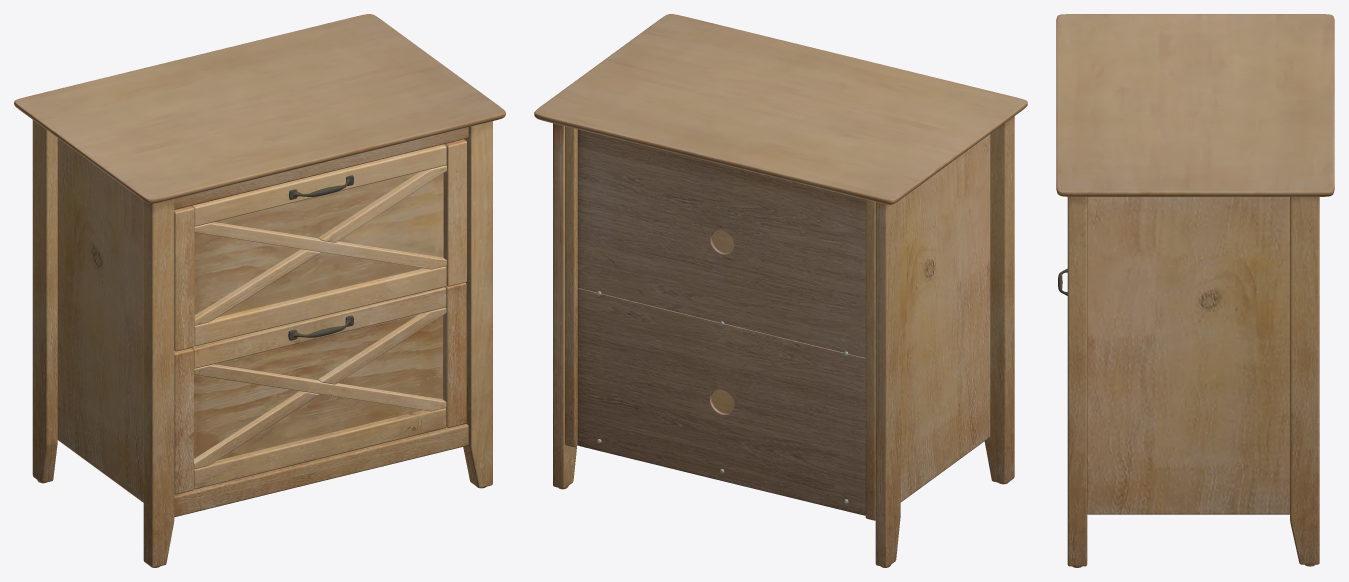
Rendered from abo-B082L1FGYP.glb.
3 renders of one model, left to right at view 1: azimuth 30°, elevation 25°; view 2: azimuth 150°, elevation 25°; view 3: azimuth 270°, elevation 25°, orthographic.
Size of the model in its own units: 0.763 by 0.762 by 0.503.
1 material, 1 textured.
